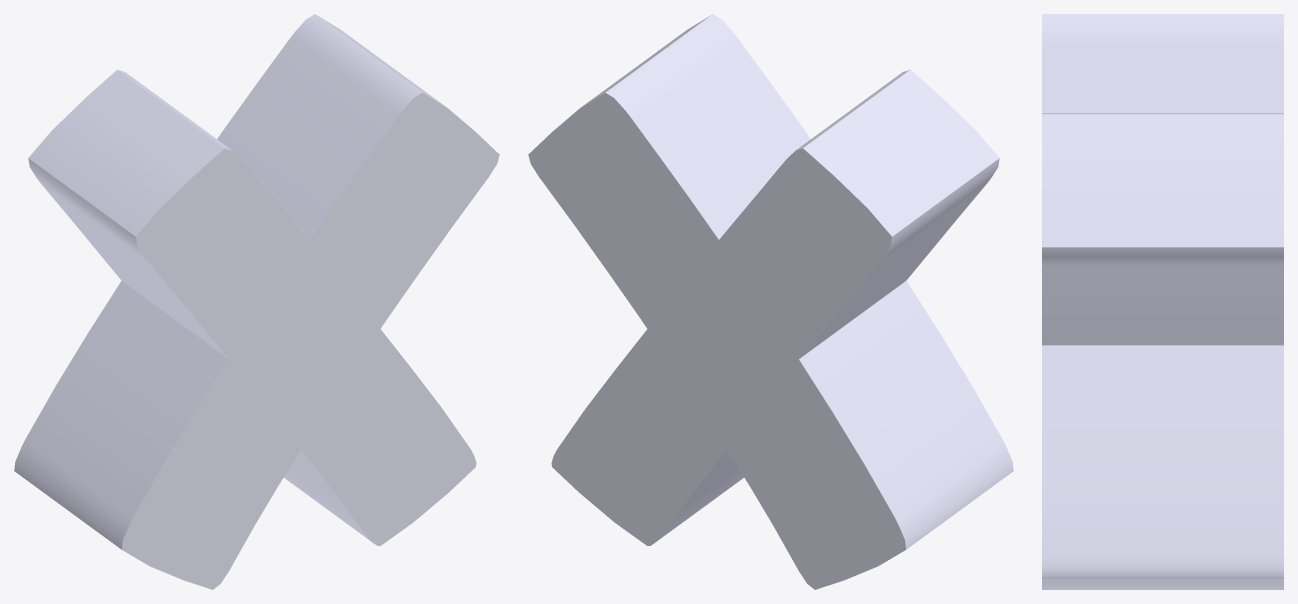
The model's file is X_Zyzol_Grey.glb.
The picture shows the model from 3 angles, left to right: view 1: azimuth 30°, elevation 25°; view 2: azimuth 150°, elevation 25°; view 3: azimuth 270°, elevation 25°; orthographic projection. The views are drawn at different scales.
Visible parts, largest first — view 1: x_Zyzol_Grey; view 2: x_Zyzol_Grey; view 3: x_Zyzol_Grey.
Part boxes in pixels (bbox=[...]): x_Zyzol_Grey: bbox=[14, 14, 499, 589]; x_Zyzol_Grey: bbox=[528, 14, 1013, 589]; x_Zyzol_Grey: bbox=[1042, 14, 1283, 589].
Size of what is drawn, in the model's own units: 0.0913 by 0.103 by 0.045.
Materials: 2 (2 with a texture image).
